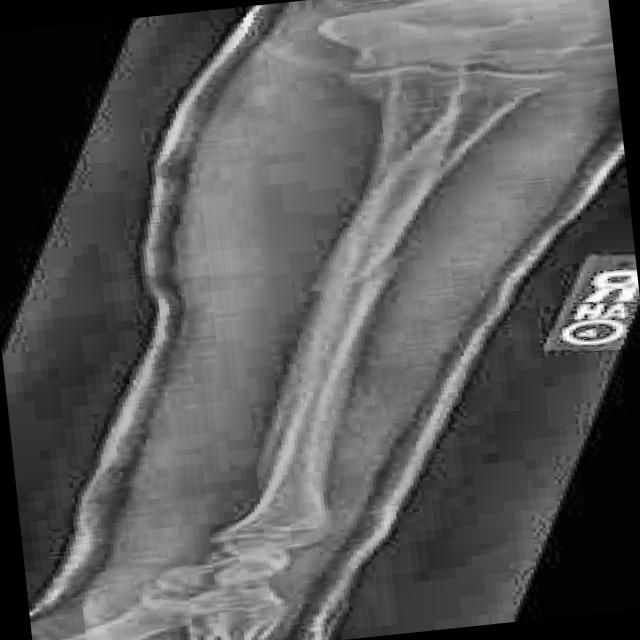forearm fracture: (248, 231, 478, 352)
